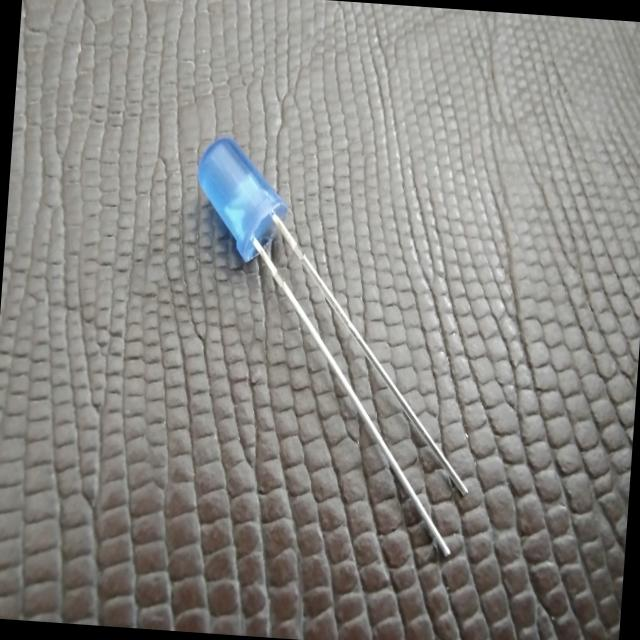blue_led: (190, 132, 292, 266)
